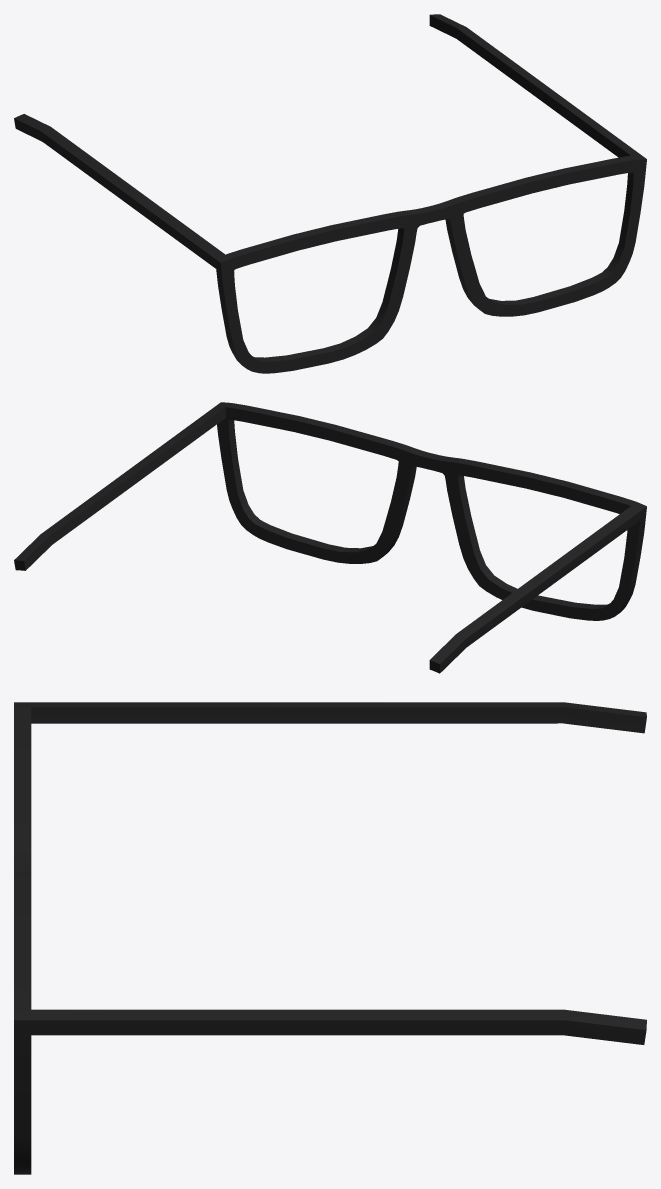
File: glasses.glb
3 views of the same model, one above another, from view 1: azimuth 30°, elevation 25°; view 2: azimuth 150°, elevation 25°; view 3: azimuth 270°, elevation 25° (orthographic). The views are drawn at different scales.
Visible parts, largest first — view 1: Plane.102; view 2: Plane.102; view 3: Plane.102.
Part boxes in pixels (<box>): Plane.102: <box>14,14,646,373</box>; Plane.102: <box>14,402,646,673</box>; Plane.102: <box>14,702,646,1174</box>.
Size of the model in its own units: 1.84 by 0.5461 by 1.55.
Materials: 1 (1 with a texture image).
